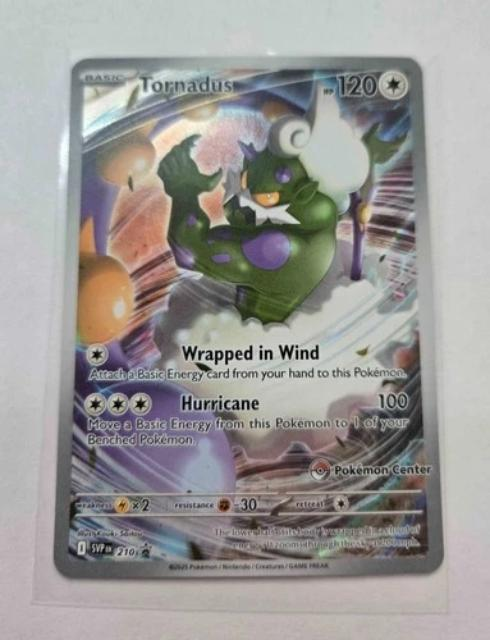Card: (48, 50, 447, 582)
Name: (134, 69, 239, 100)
